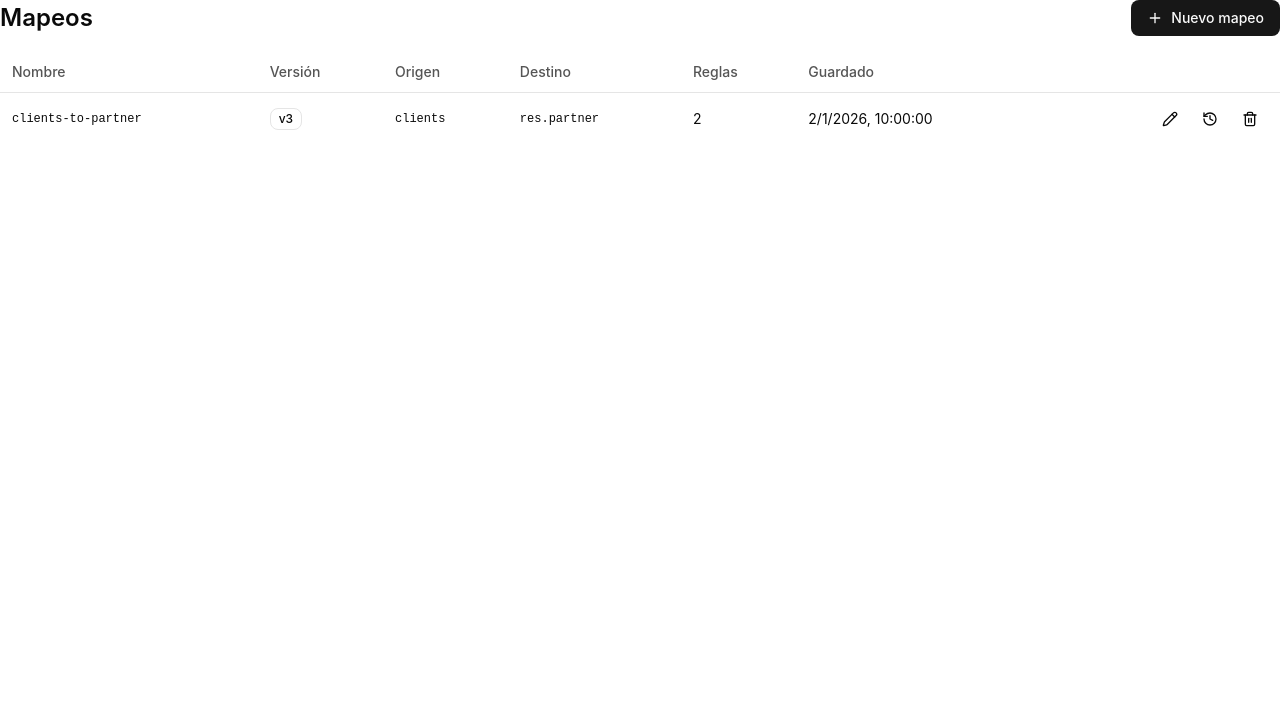
MappingsPage › explains why a mapping in use cannot be deleted
Click the button named "Eliminar clients-to-partner" at [1250, 118], box [1232,100,1268,136]
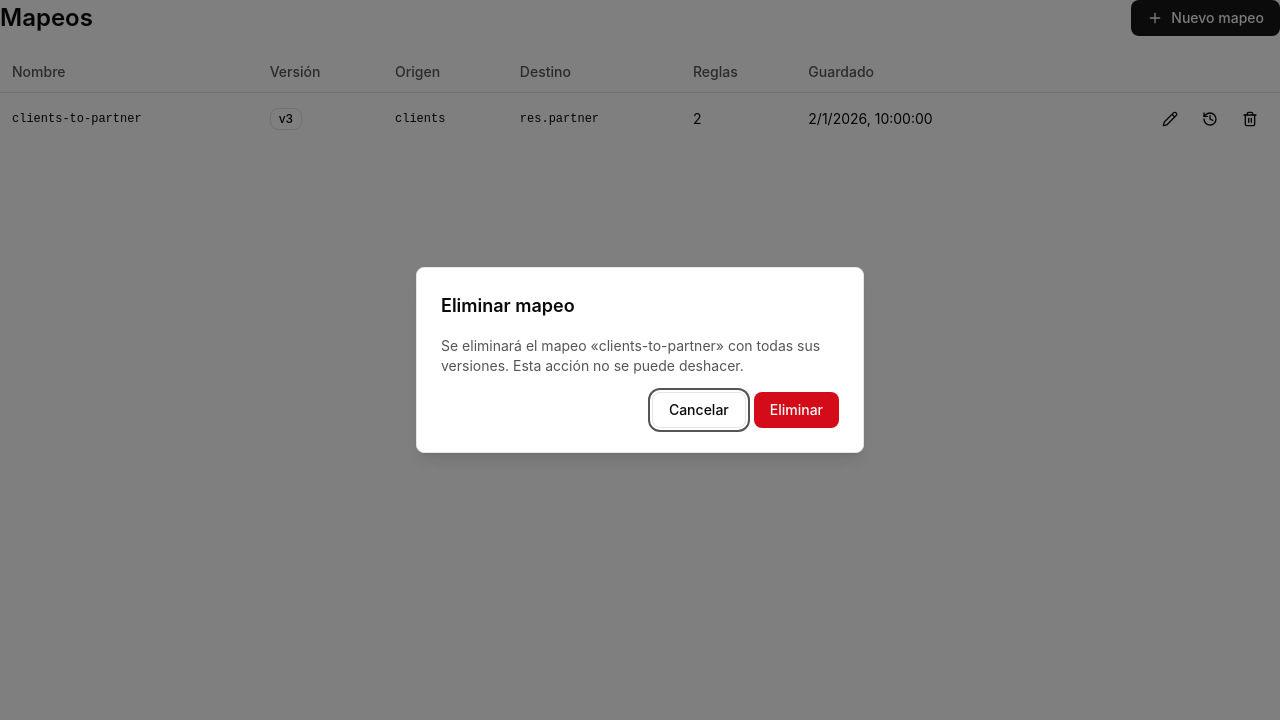
Click the button "Eliminar" at [796, 410], box [754,392,839,428]
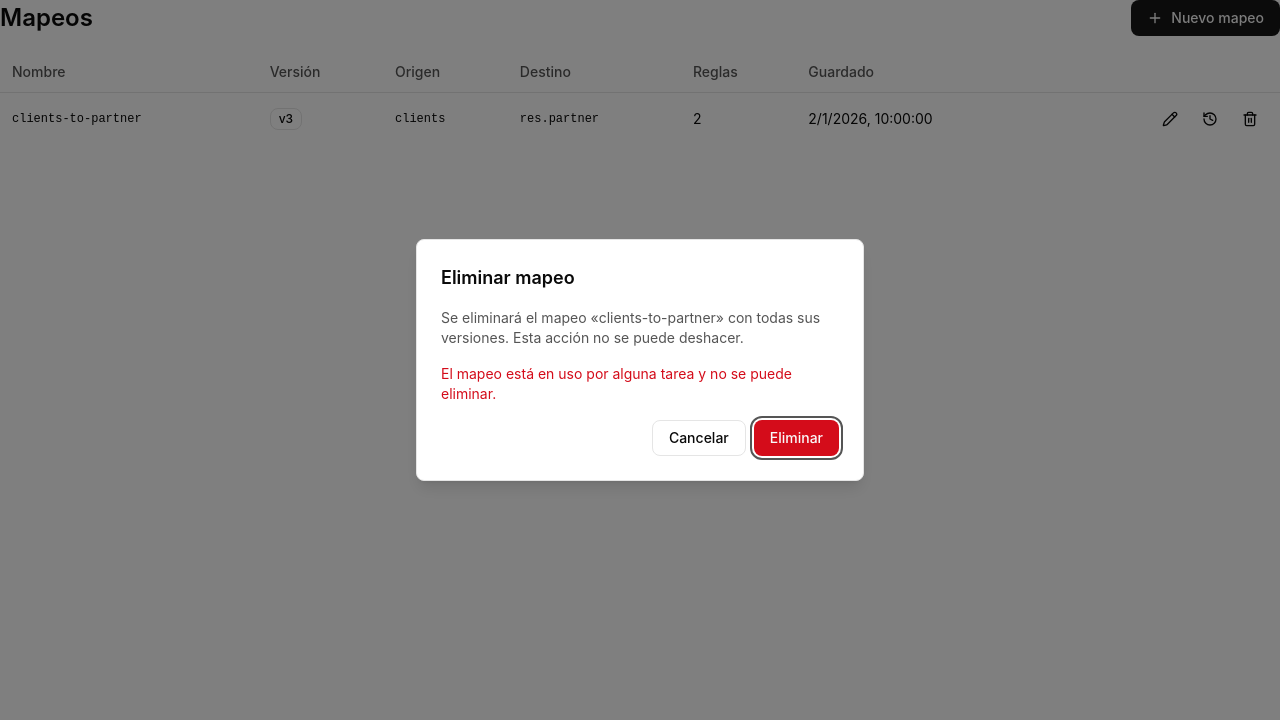
Expected: the message shows "está en uso por alguna tarea", [441,365,792,402]
